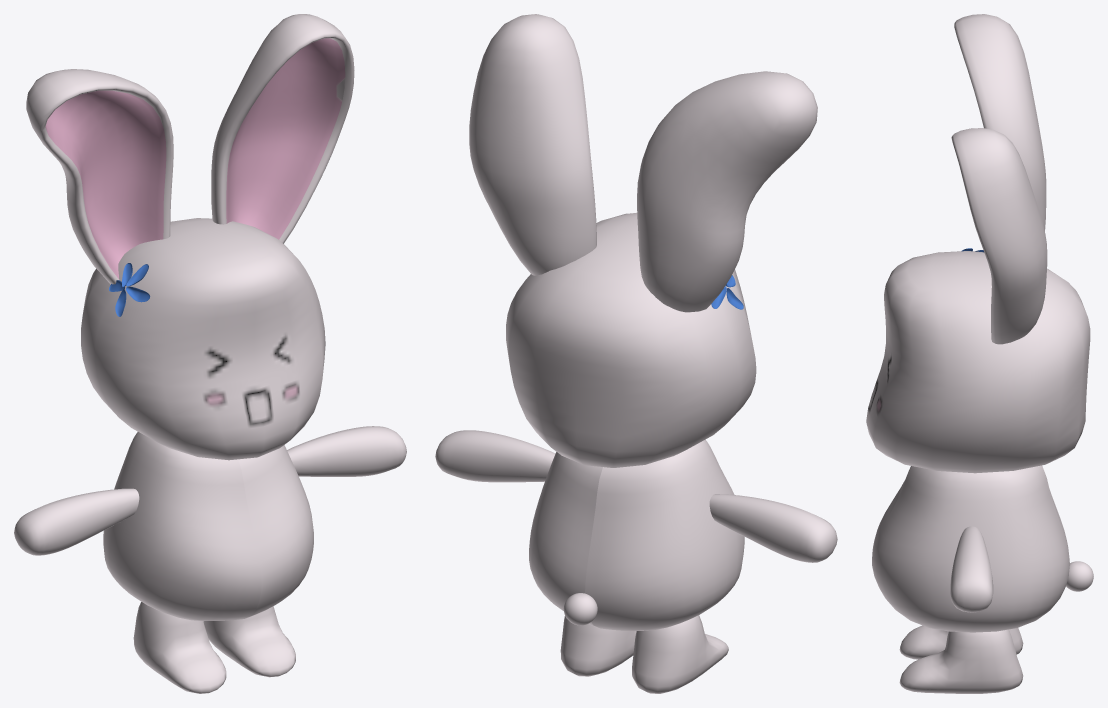
Rendered from bunny_colored.fbx.
3 renders of one model, left to right at view 1: azimuth 30°, elevation 25°; view 2: azimuth 150°, elevation 25°; view 3: azimuth 270°, elevation 25°, orthographic. The views are drawn at different scales.
Parts seen in each view (by area): view 1: polySurface36; view 2: polySurface36; view 3: polySurface36.
Boxes of the visible parts, x1,y1,x2,y2 form: polySurface36: [14, 14, 406, 693]; polySurface36: [435, 14, 837, 693]; polySurface36: [866, 14, 1093, 693].
Bounding box in the file's own units: 2.24 × 3.45 × 1.21.
1 material, 1 textured.
